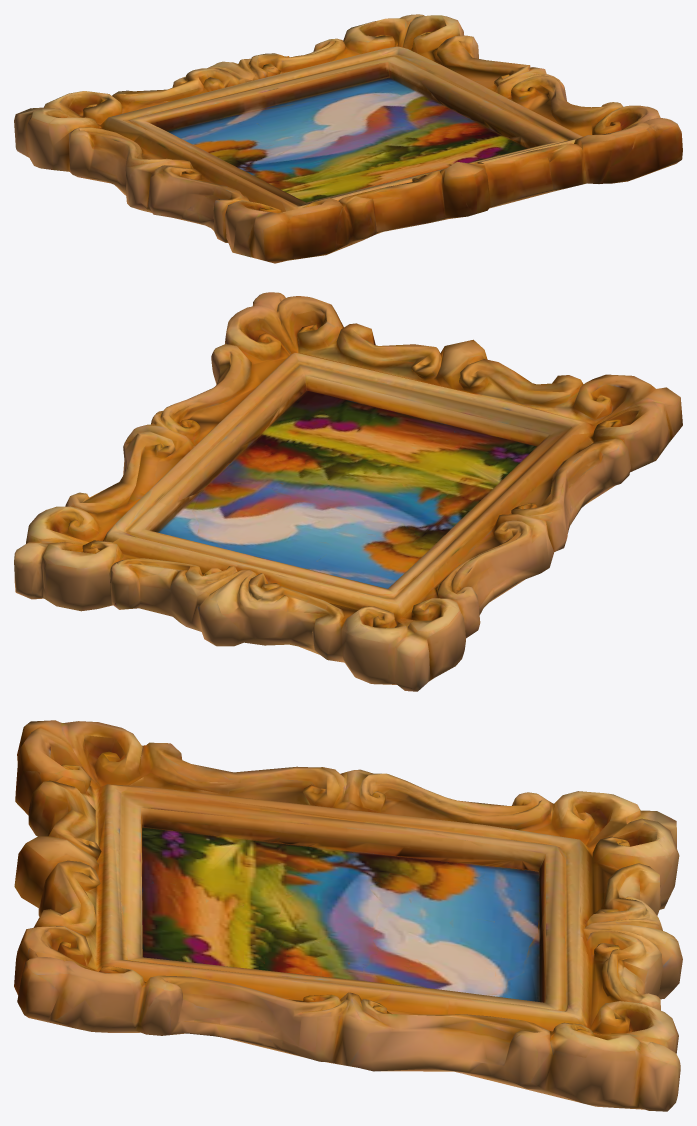
3 views of the same model, one above another, from view 1: azimuth 30°, elevation 25°; view 2: azimuth 150°, elevation 25°; view 3: azimuth 270°, elevation 25° (orthographic). The views are drawn at different scales.
Visible parts, largest first — view 1: material; view 2: material; view 3: material.
Part boxes in pixels (bbox=[...]): material: bbox=[14, 14, 682, 263]; material: bbox=[14, 292, 682, 691]; material: bbox=[14, 720, 682, 1111].
Bounding box in the file's own units: 0.931 × 0.2589 × 1.
1 material, 1 textured.
